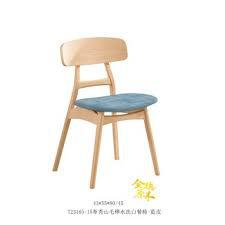chair: (40, 28, 176, 188)
